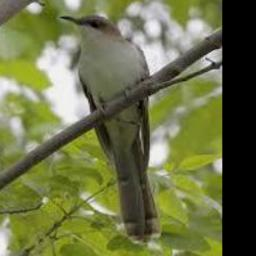Cuckoo: (60, 14, 161, 242)
